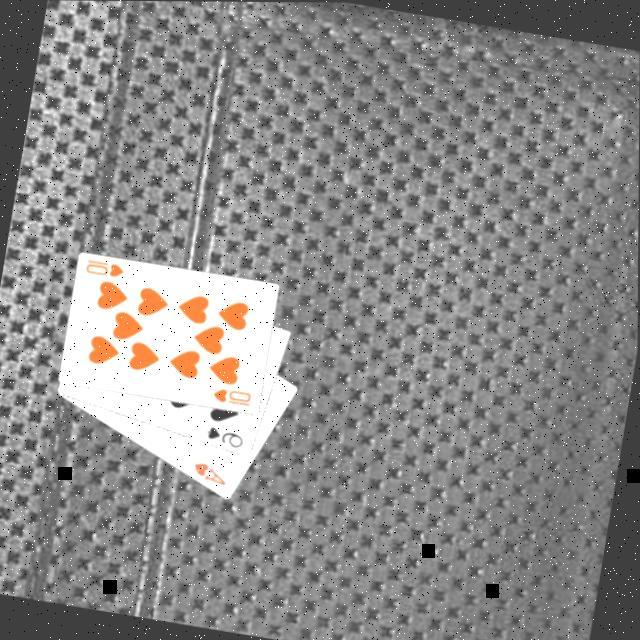10H: (208, 383, 254, 409), (81, 254, 127, 280)
9S: (201, 422, 247, 450)
AH: (188, 457, 231, 488)
